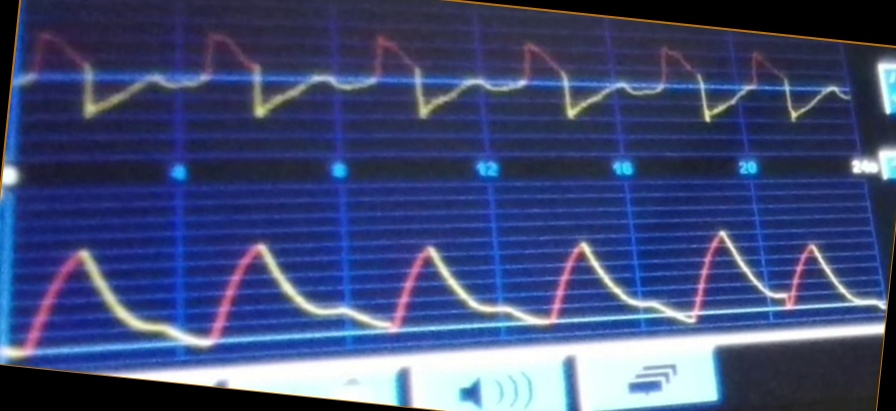Ineffective_effort Flow: (21, 27, 848, 133)
Ineffective_effort Volume: (14, 228, 880, 350)
